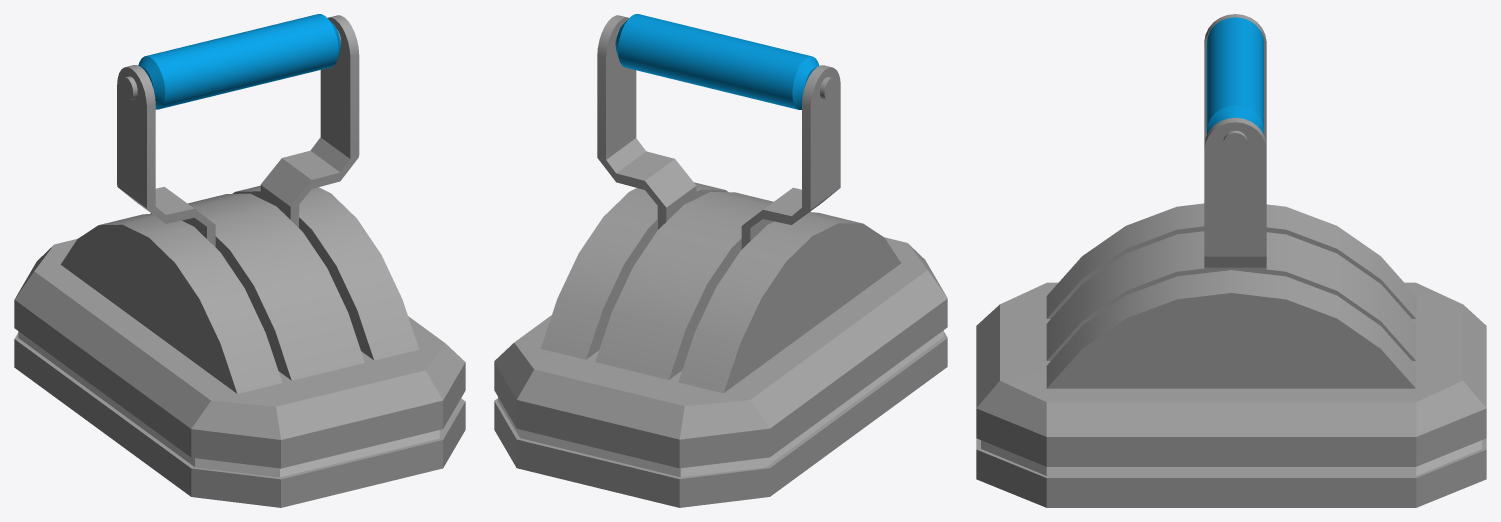
File: Lever.fbx
The picture shows the model from 3 angles, left to right: view 1: azimuth 30°, elevation 25°; view 2: azimuth 150°, elevation 25°; view 3: azimuth 270°, elevation 25°; orthographic projection. The views are drawn at different scales.
Visible parts, largest first — view 1: Lever, LeverGrip; view 2: Lever, LeverGrip; view 3: Lever, LeverGrip.
Part boxes in pixels (x1,y1,x2,y2): Lever: [14, 185, 465, 507]; LeverGrip: [117, 14, 359, 246]; Lever: [494, 182, 947, 507]; LeverGrip: [597, 14, 840, 249]; Lever: [976, 203, 1486, 507]; LeverGrip: [1204, 14, 1266, 274].
Bounding box in the file's own units: 25.53 × 32.06 × 39.37.
